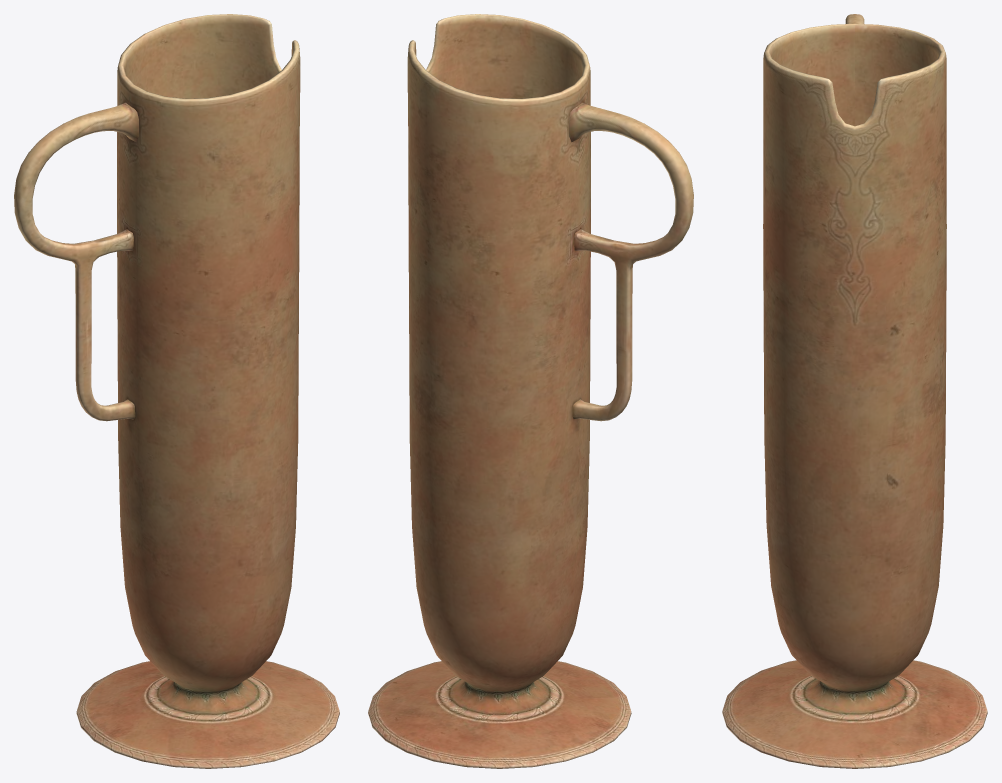
The model's file is brass_vase_04.glb.
3 views of the same model, side by side, from view 1: azimuth 30°, elevation 25°; view 2: azimuth 150°, elevation 25°; view 3: azimuth 270°, elevation 25° (orthographic).
Visible parts, largest first — view 1: brass_vase_04; view 2: brass_vase_04; view 3: brass_vase_04.
Part boxes in pixels (x1=…): brass_vase_04: x1=14, y1=14, x2=339, y2=768; brass_vase_04: x1=368, y1=14, x2=693, y2=768; brass_vase_04: x1=722, y1=14, x2=987, y2=768.
Size of the model in its own units: 0.082 by 0.1703 by 0.0611.
1 material, 1 textured.
